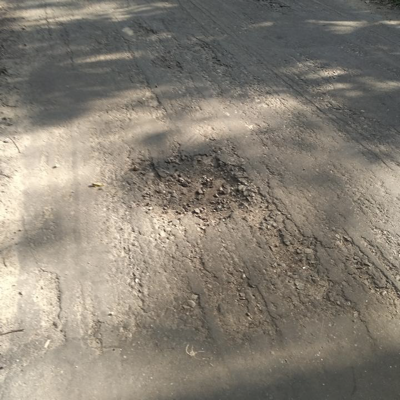pothole: (129, 152, 253, 225)
